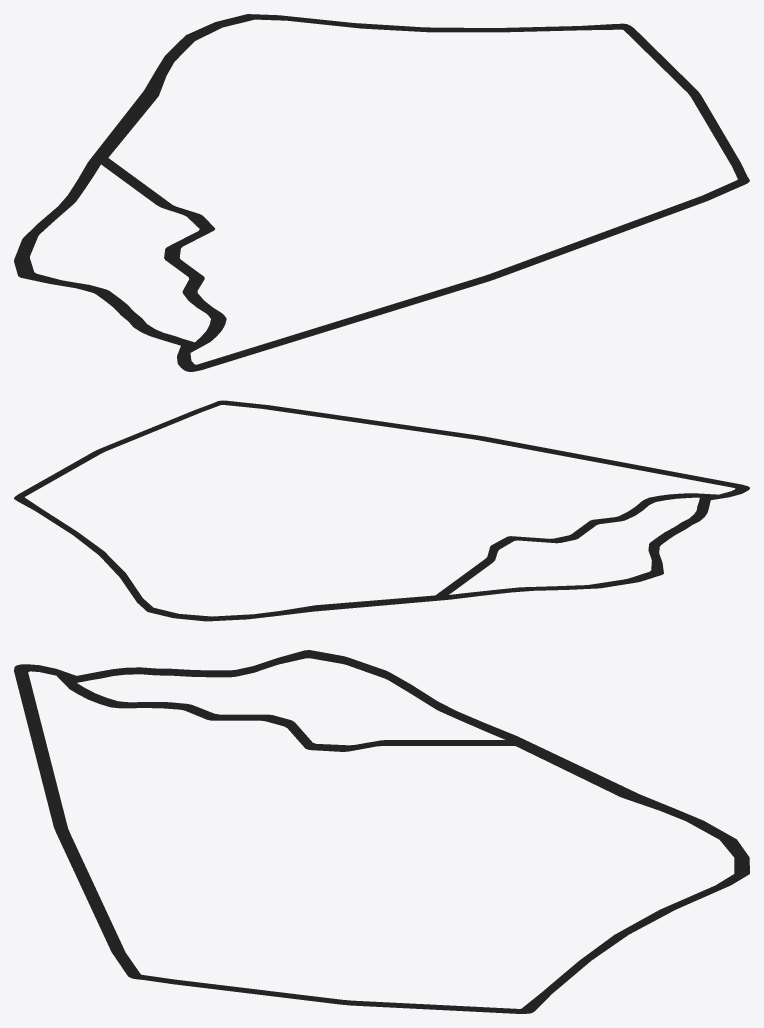
File: MapFinal.fbx
The picture shows the model from 3 angles, top to bottom: view 1: azimuth 30°, elevation 25°; view 2: azimuth 150°, elevation 25°; view 3: azimuth 270°, elevation 25°; orthographic projection. The views are drawn at different scales.
Parts seen in each view (by area): view 1: Plane001; view 2: Plane001; view 3: Plane001.
Boxes of the visible parts, x1,y1,x2,y2 form: Plane001: (14, 14, 749, 371); Plane001: (14, 400, 749, 621); Plane001: (14, 650, 749, 1013).
Size of the model in its own units: 851 by 4.46e-14 by 728.
Materials: 1 (1 with a texture image).
